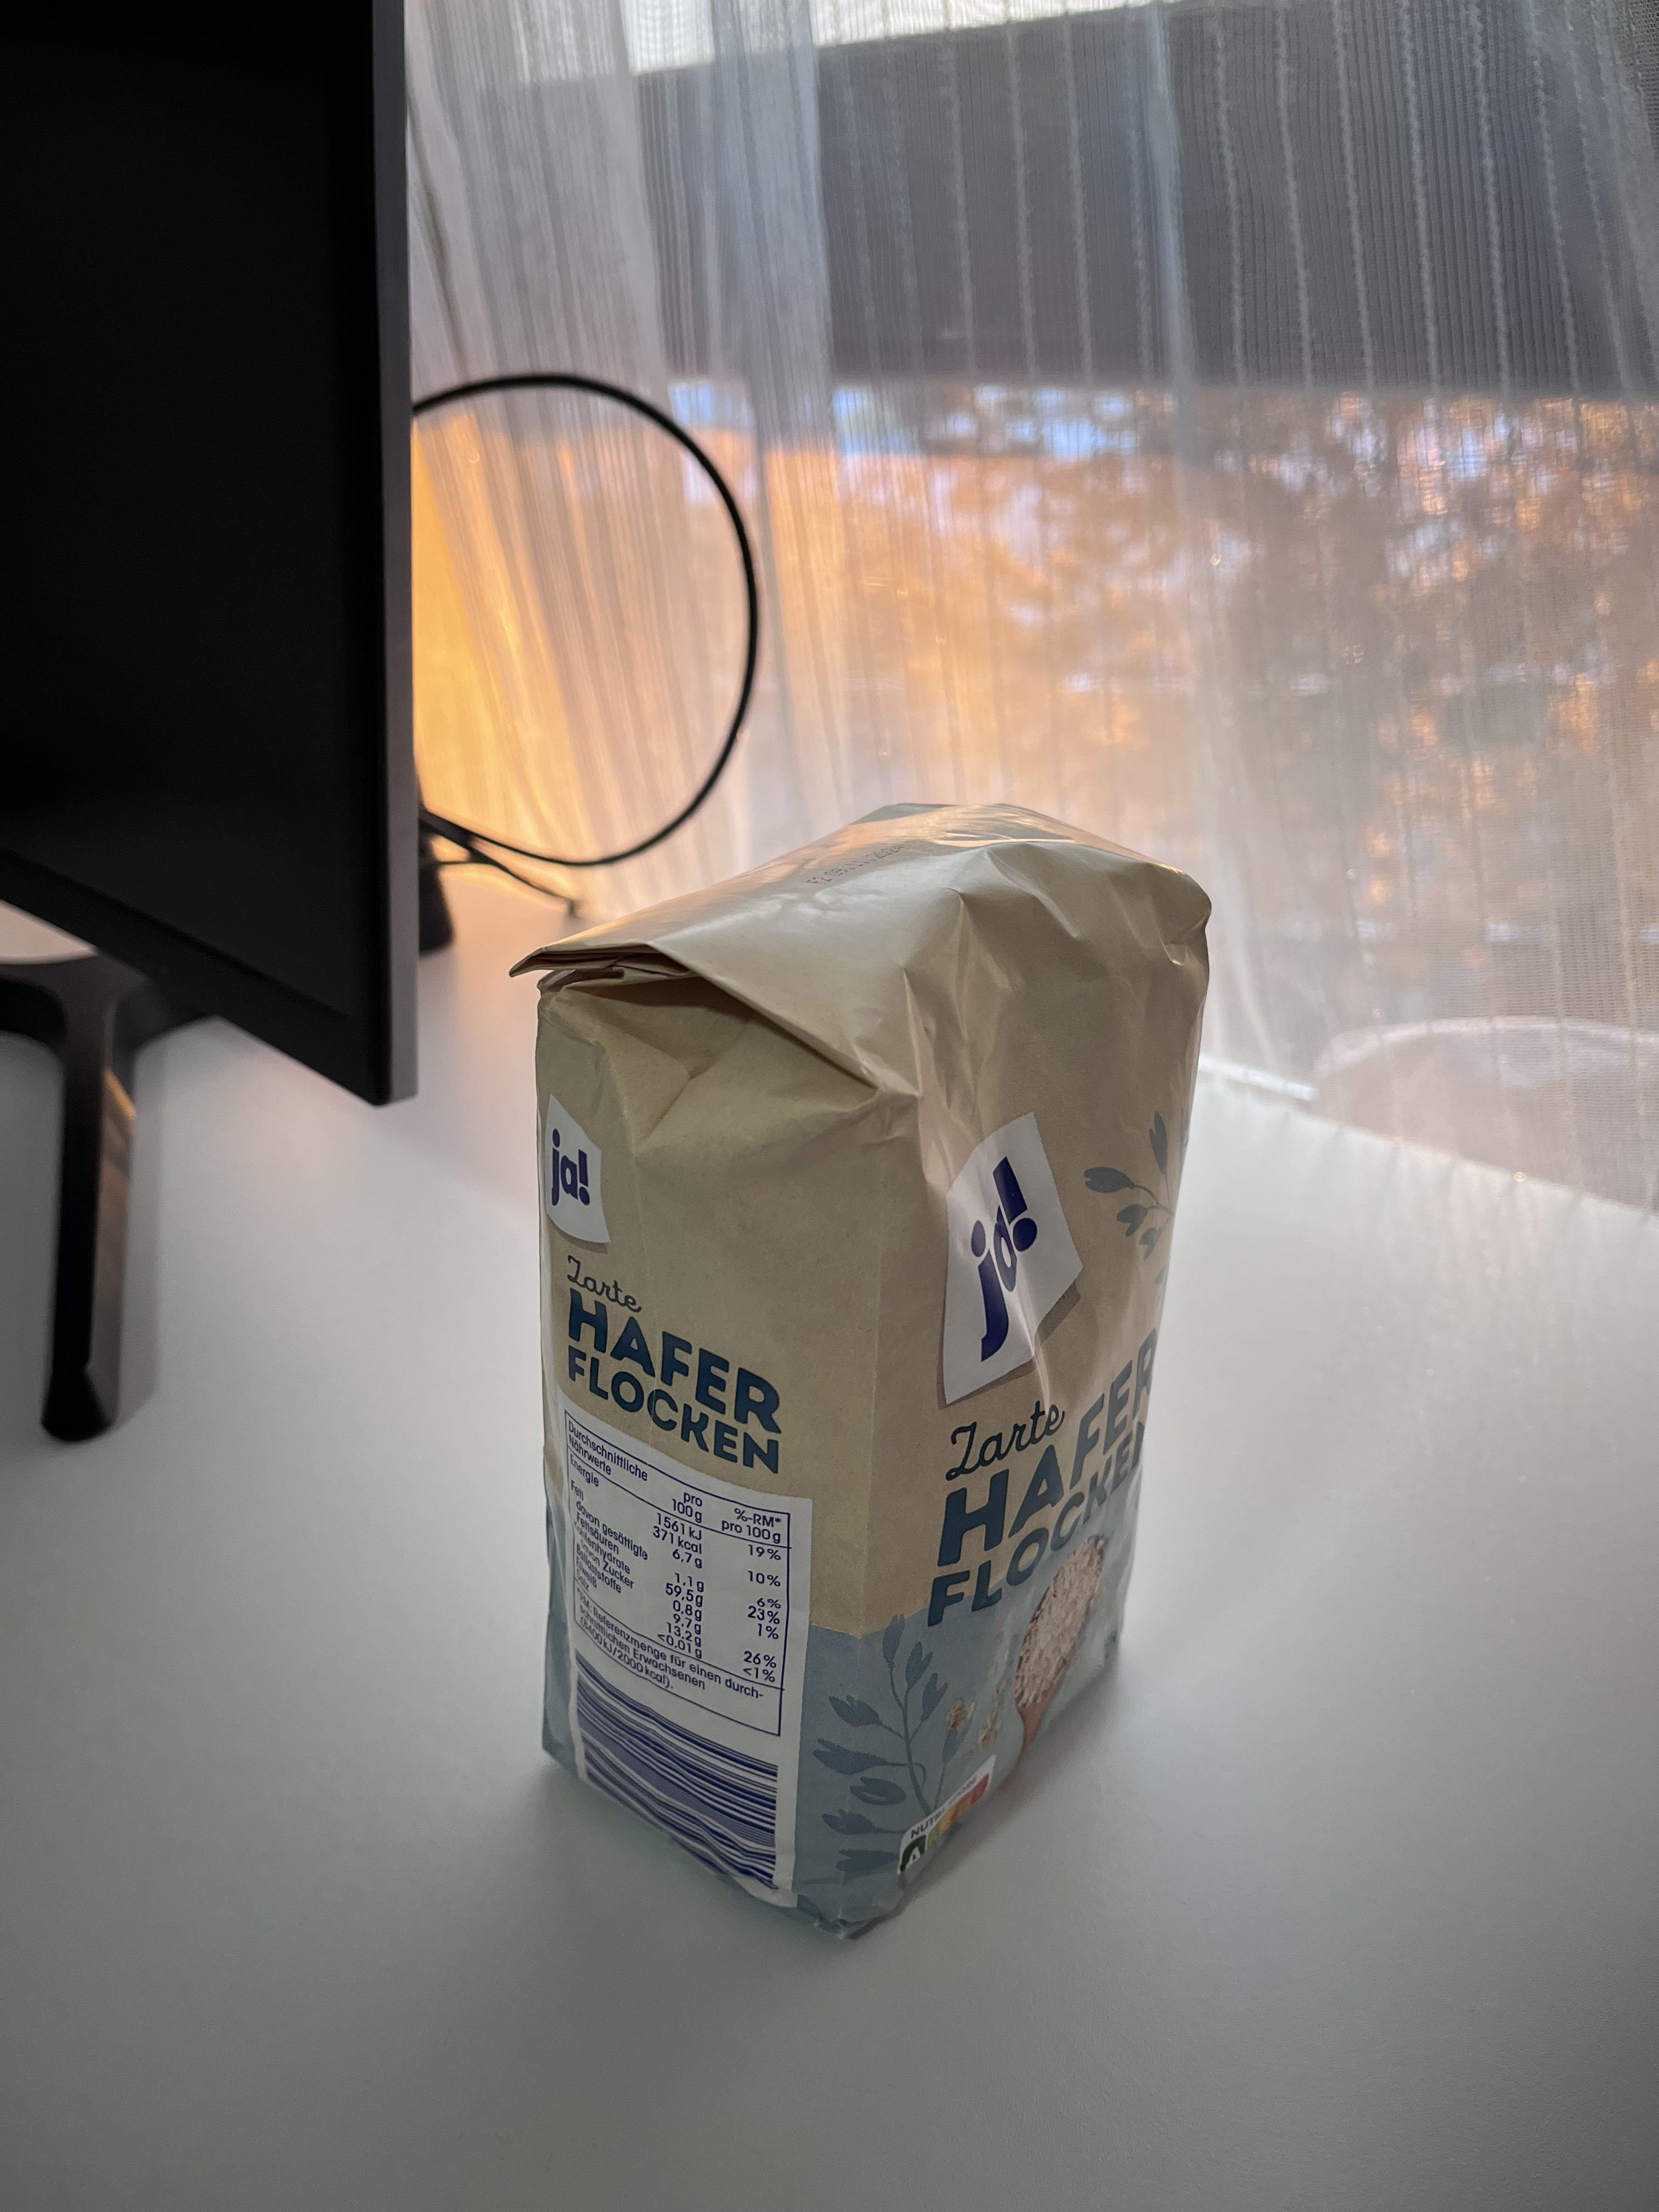haferflocken_ja: (509, 794, 1213, 1946)
